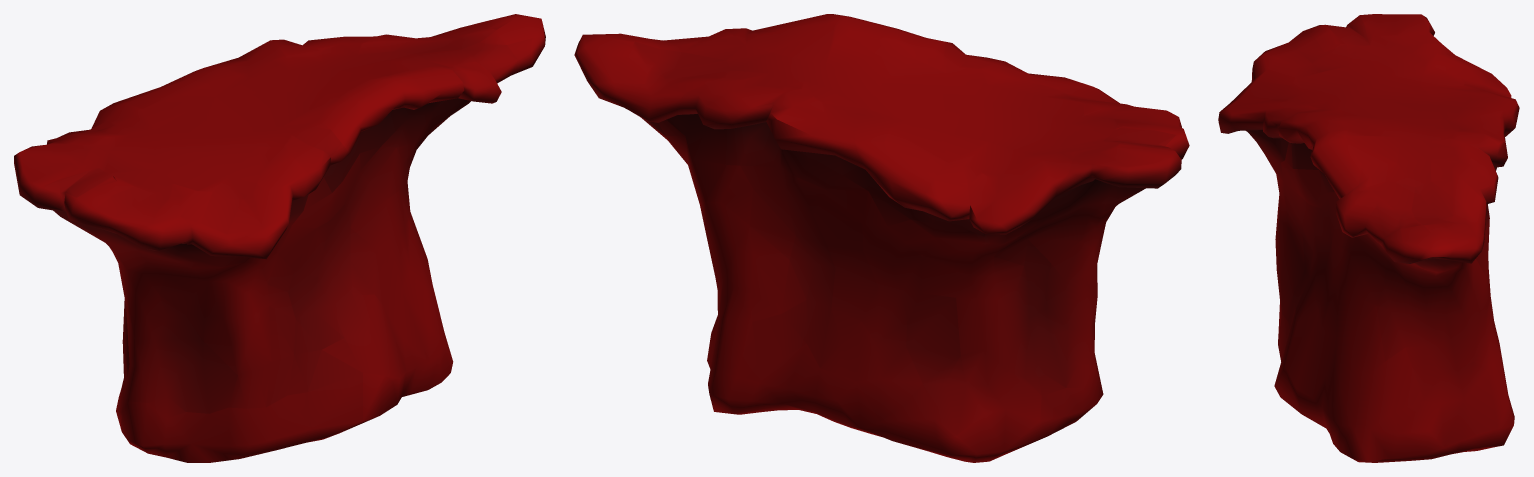
The model's file is env_siderock_medium02_lod1.fbx.
The picture shows the model from 3 angles, left to right: view 1: azimuth 30°, elevation 25°; view 2: azimuth 150°, elevation 25°; view 3: azimuth 270°, elevation 25°; orthographic projection. The views are drawn at different scales.
Parts seen in each view (by area): view 1: env_siderock_medium02_lod1; view 2: env_siderock_medium02_lod1; view 3: env_siderock_medium02_lod1.
Part boxes in pixels (x1=…): env_siderock_medium02_lod1: x1=14, y1=14, x2=545, y2=462; env_siderock_medium02_lod1: x1=574, y1=14, x2=1189, y2=462; env_siderock_medium02_lod1: x1=1218, y1=14, x2=1519, y2=462.
Bounding box in the file's own units: 127 × 75.92 × 65.82.
